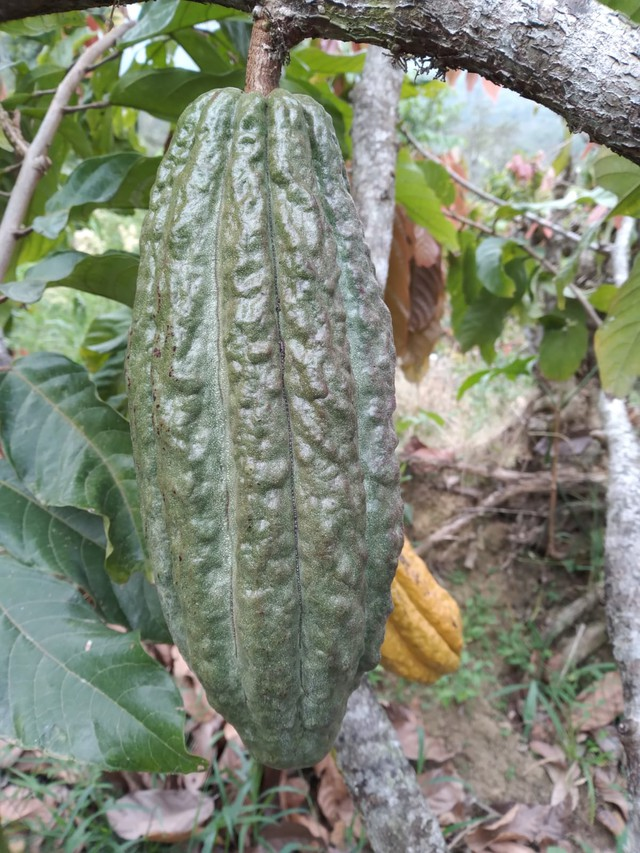Health: (117, 83, 416, 781)
